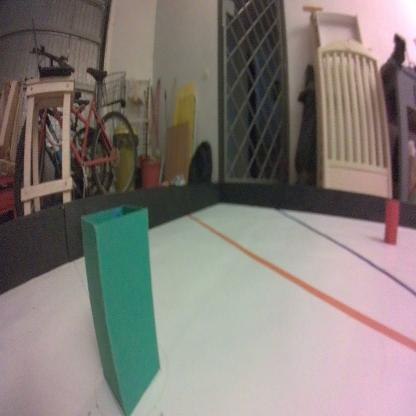green: (77, 198, 165, 416)
red: (383, 200, 399, 247)
